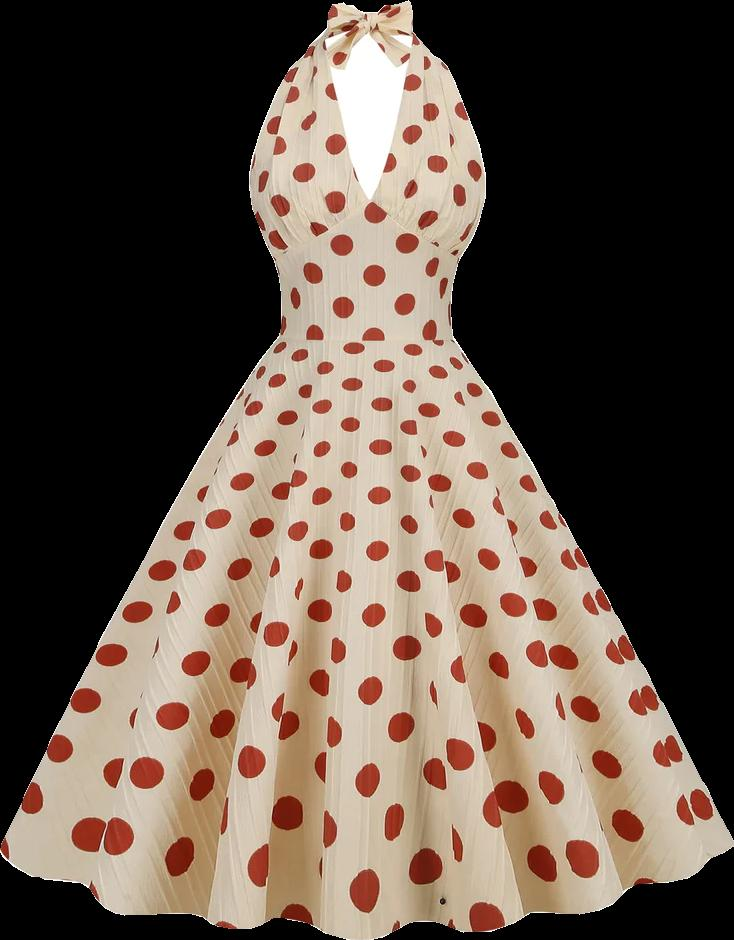Bodice: (249, 1, 485, 343)
Hemline: (0, 836, 733, 939)
Neckline: (317, 24, 420, 212), (270, 198, 464, 264)
Skirt: (0, 338, 733, 939)
Waistline: (274, 329, 461, 349)
